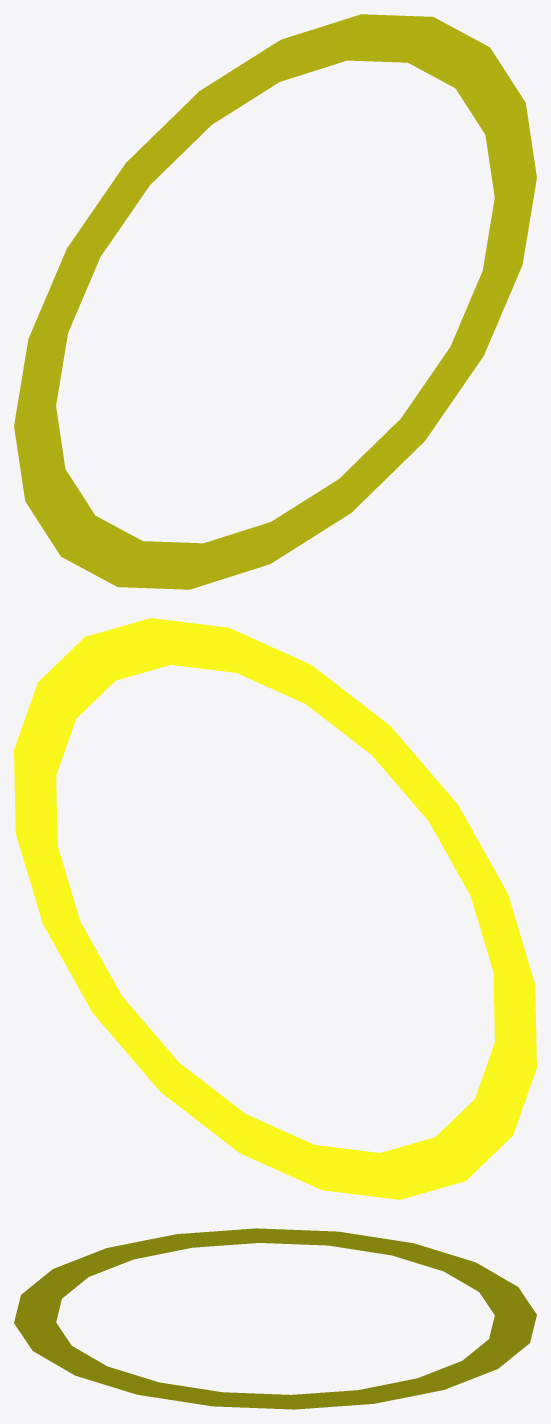
File: RadialPulse.fbx
3 views of the same model, one above another, from view 1: azimuth 30°, elevation 25°; view 2: azimuth 150°, elevation 25°; view 3: azimuth 270°, elevation 25° (orthographic). The views are drawn at different scales.
Parts seen in each view (by area): view 1: CircleGeo; view 2: CircleGeo; view 3: CircleGeo.
Boxes of the visible parts, bbox=[...] form: CircleGeo: bbox=[14, 14, 536, 589]; CircleGeo: bbox=[14, 618, 536, 1199]; CircleGeo: bbox=[14, 1228, 536, 1409].
Size of the model in its own units: 10.32 by 10.41 by 14.66.
